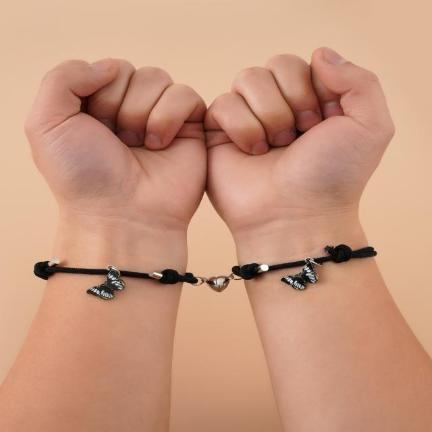Nail: (297, 110, 321, 130), (324, 47, 347, 65), (117, 131, 140, 147), (274, 130, 295, 146), (324, 101, 342, 116), (91, 58, 111, 71), (98, 118, 115, 131), (144, 135, 162, 147), (251, 141, 267, 154)
